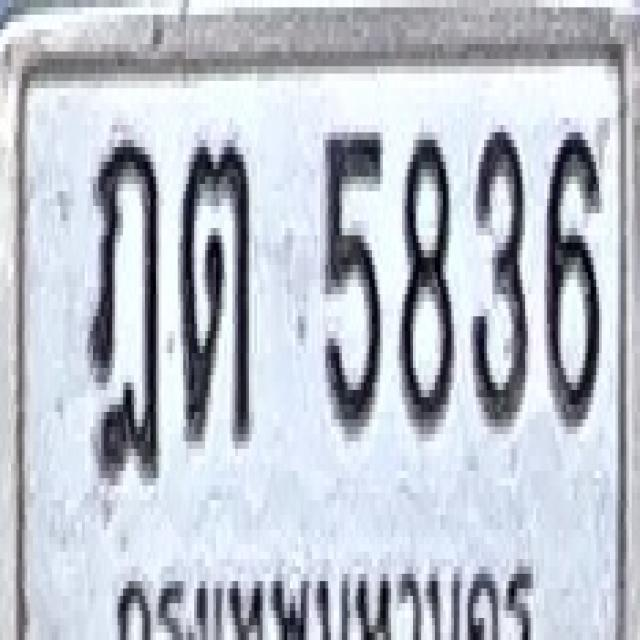3: (470, 122, 528, 430)
5: (323, 125, 383, 434)
6: (544, 125, 599, 427)
8: (398, 125, 453, 434)
A14: (86, 132, 160, 486)
A21: (179, 136, 250, 445)
